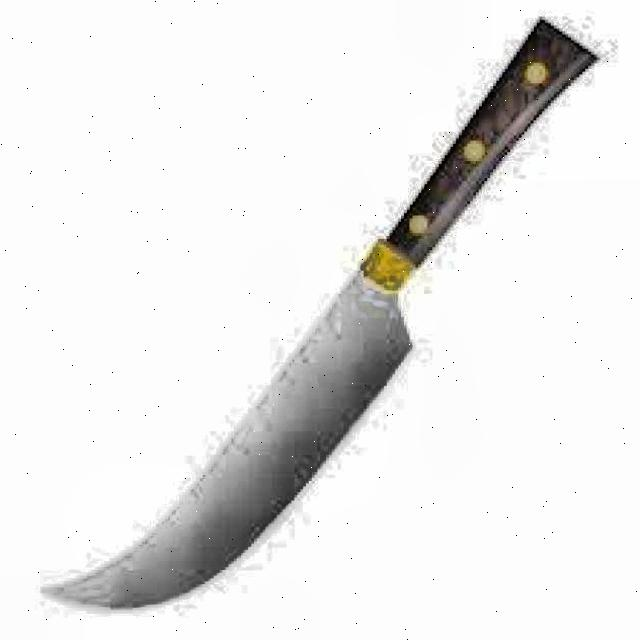knife: (34, 12, 604, 619)
